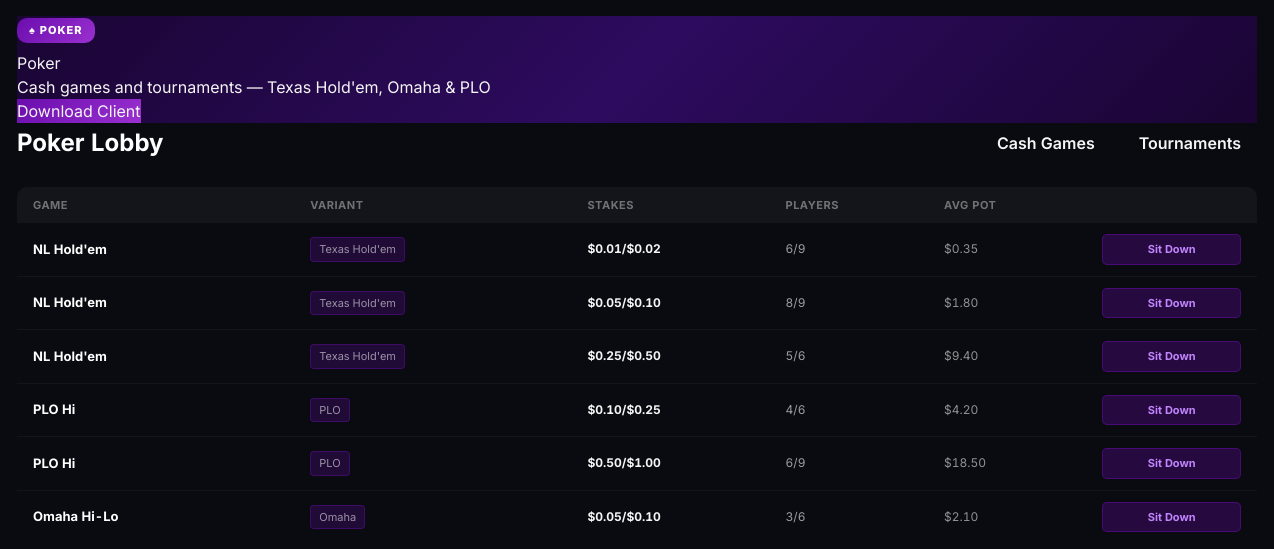
Test: Poker Component › Toast Messages › shows toast when clicking download client button
This screenshot has width=1274, height=549.
Click the button "Download Client" at (79, 110), box [17,98,141,122]
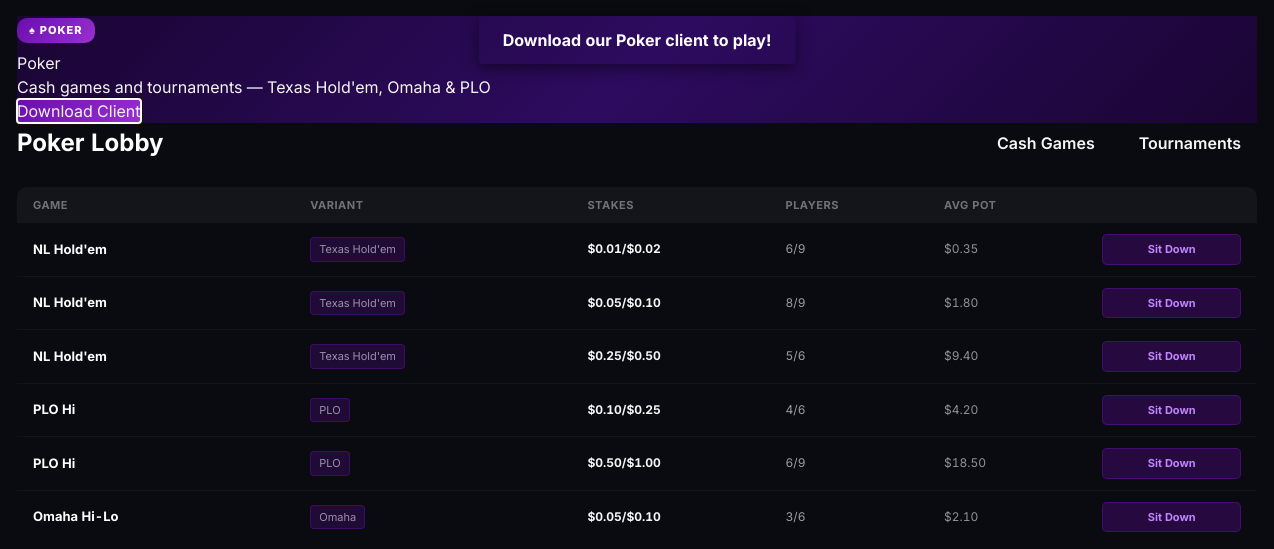
Now the text "Download our Poker client to play!" is shown, box [479,16,795,64]
